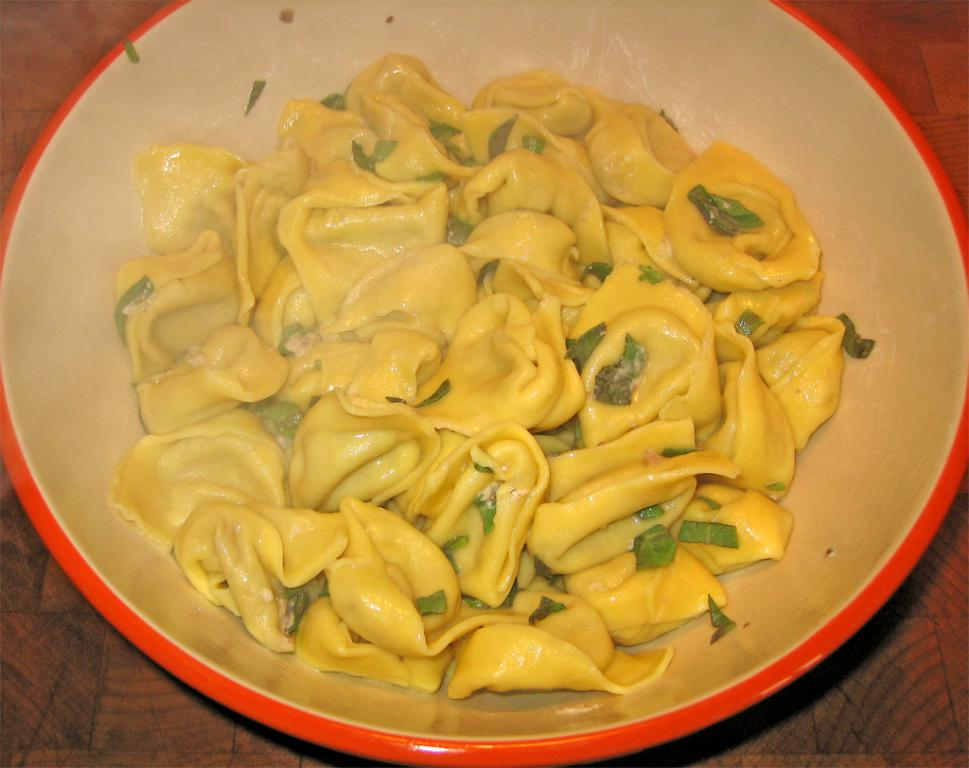pasta: (78, 32, 908, 732)
